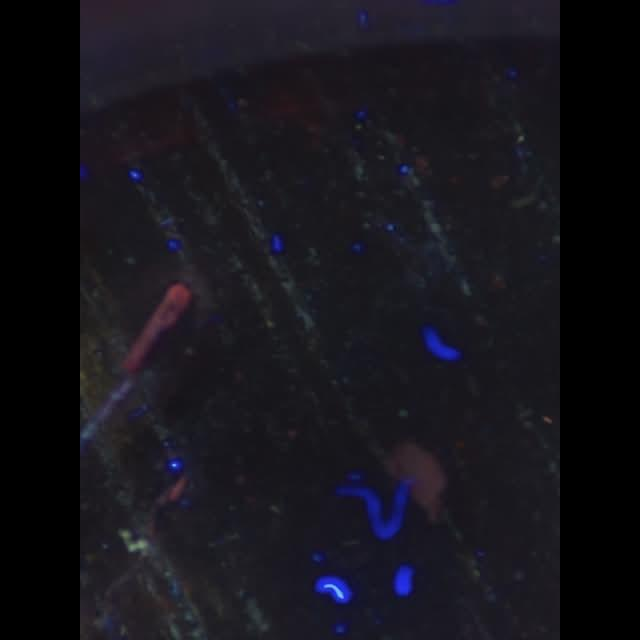Fibre: (120, 528, 150, 558)
